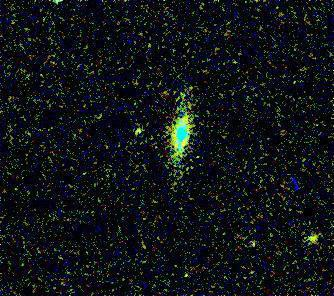star: (121, 115, 151, 145)
